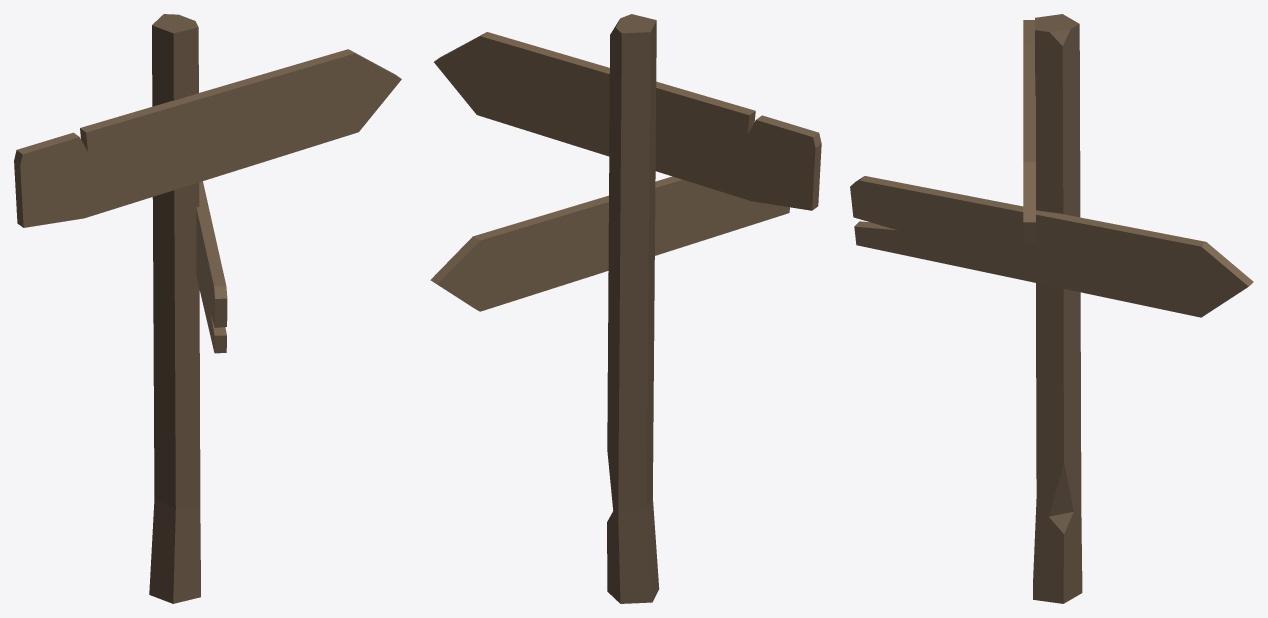
Rendered from SM_Props_Farm_WoodArrowSign_04.fbx.
The picture shows the model from 3 angles, left to right: view 1: azimuth 30°, elevation 25°; view 2: azimuth 150°, elevation 25°; view 3: azimuth 270°, elevation 25°; orthographic projection.
Parts seen in each view (by area): view 1: SM_Props_Farm_WoodArrowSign_04; view 2: SM_Props_Farm_WoodArrowSign_04; view 3: SM_Props_Farm_WoodArrowSign_04.
Part boxes in pixels (box(x1,y1,x2,y2)): SM_Props_Farm_WoodArrowSign_04: box(14, 14, 401, 603); SM_Props_Farm_WoodArrowSign_04: box(430, 14, 821, 603); SM_Props_Farm_WoodArrowSign_04: box(850, 14, 1253, 603).
Bounding box in the file's own units: 85.53 × 122 × 78.42.
